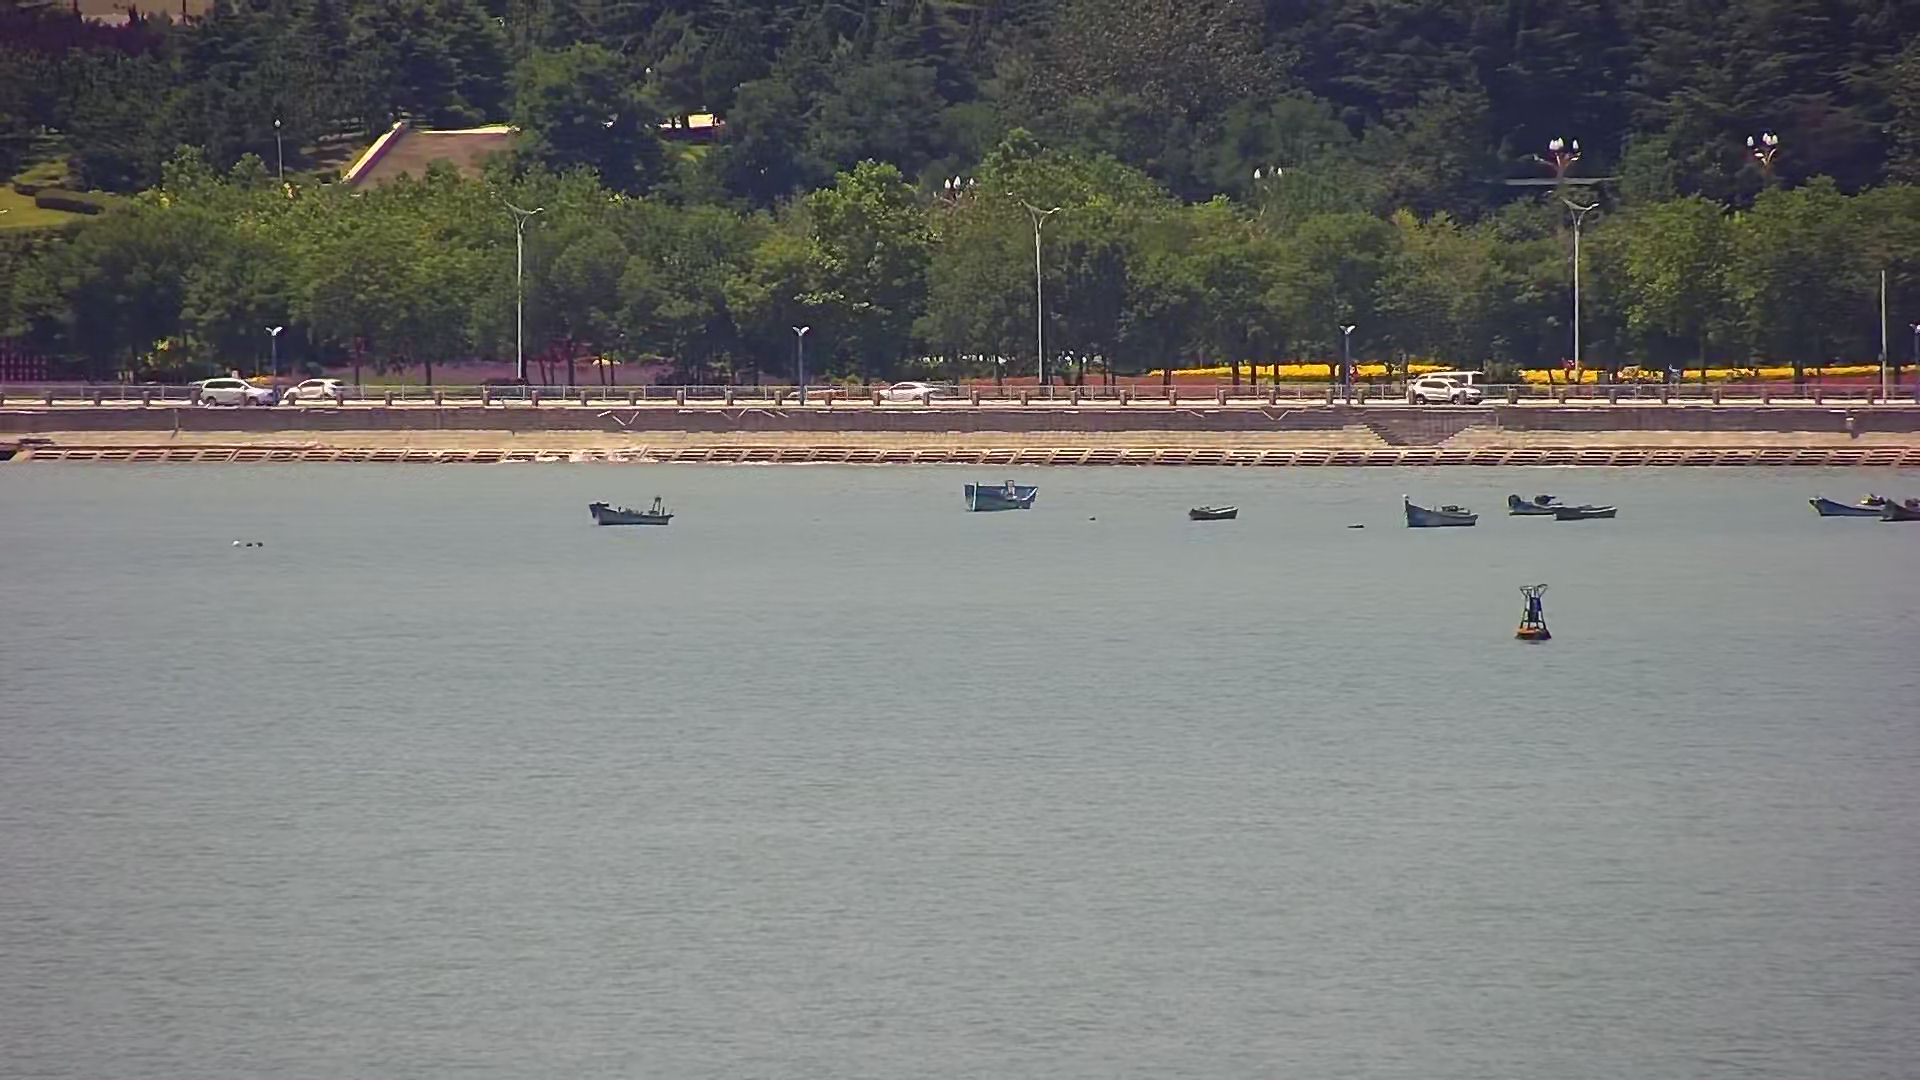boat: (1807, 483, 1912, 531), (578, 485, 680, 534), (951, 473, 1044, 516), (1509, 493, 1622, 527), (1403, 491, 1484, 537), (1178, 493, 1244, 526)
buoy: (1515, 571, 1553, 655)
